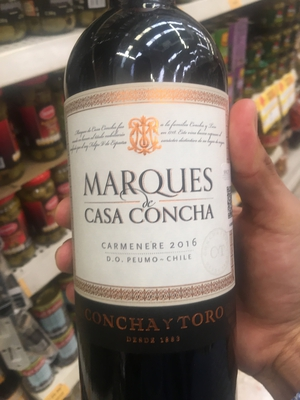marques de casa concha carmenere: (59, 12, 247, 392)
